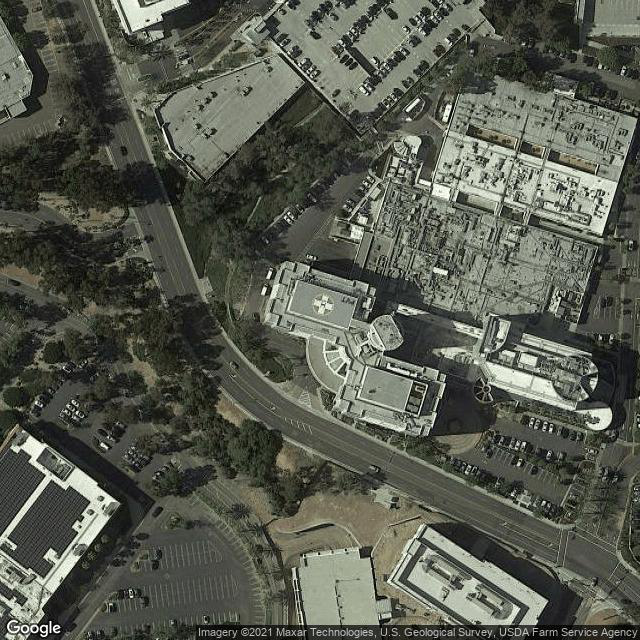Helipad: (306, 287, 337, 318)
